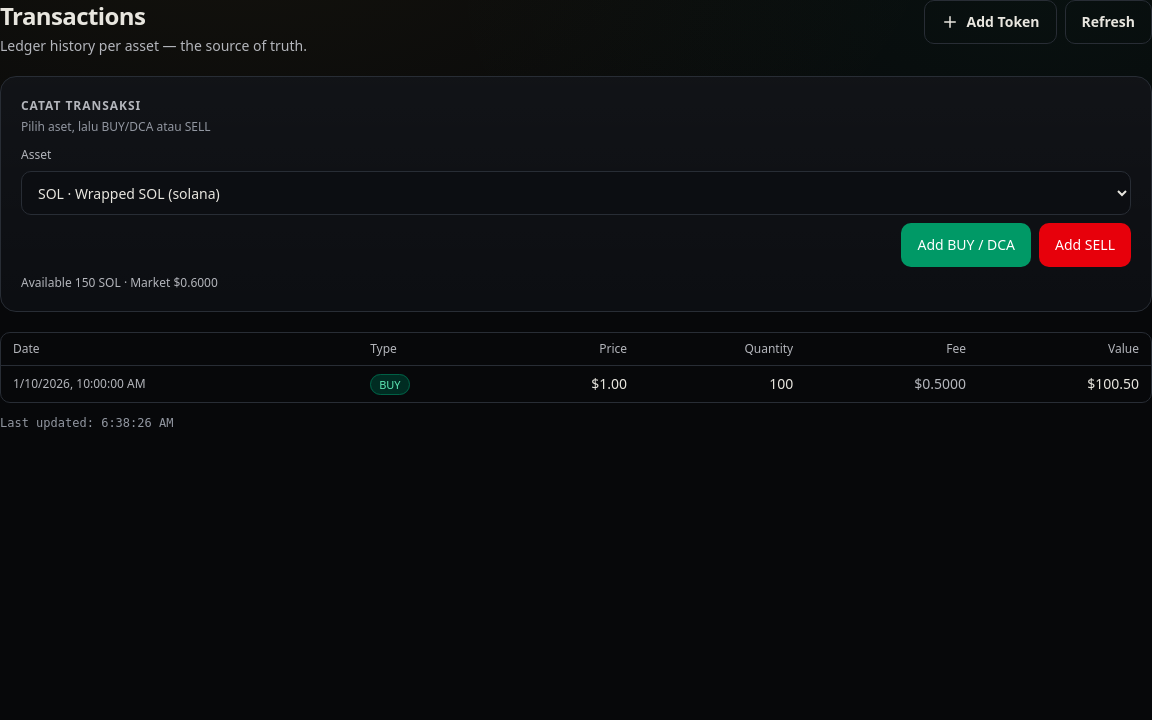
TransactionsPage › opens the BUY modal from the toolbar
expect the text "BUY" is shown: met, box left=370, top=374, right=410, bottom=395
Click the button "Add BUY / DCA". click: [966, 245]
box: left=902, top=223, right=1031, bottom=267
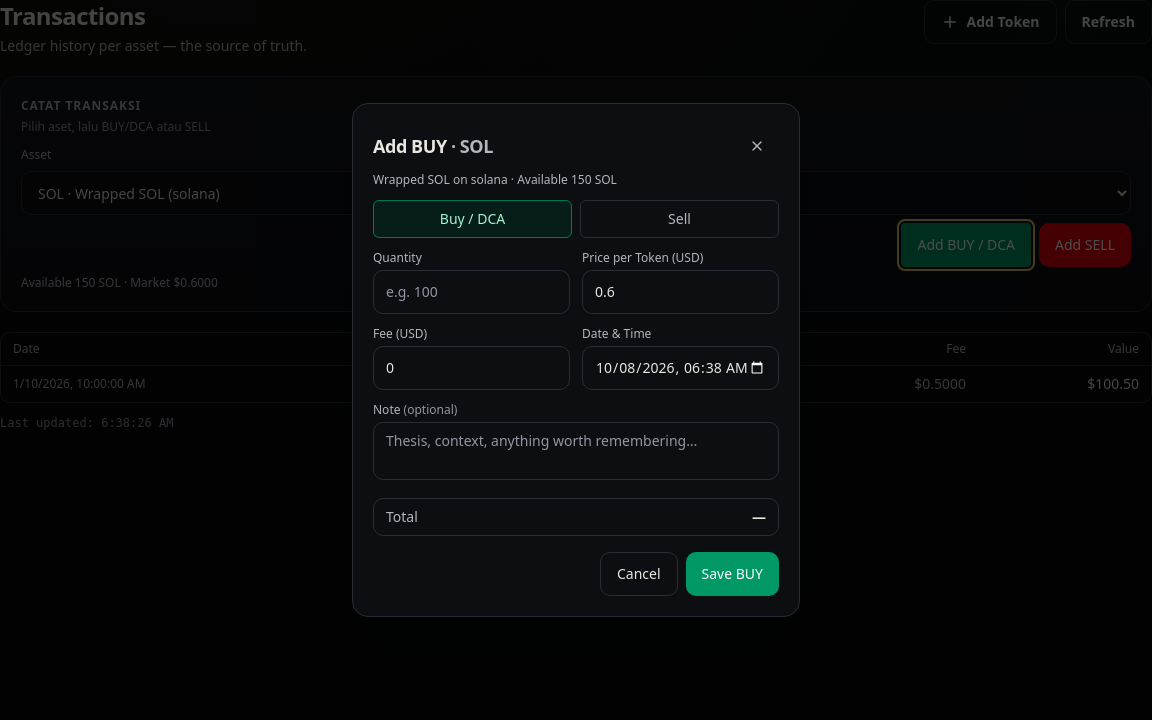
expect the dialog named "add buy for sol" is shown: met
